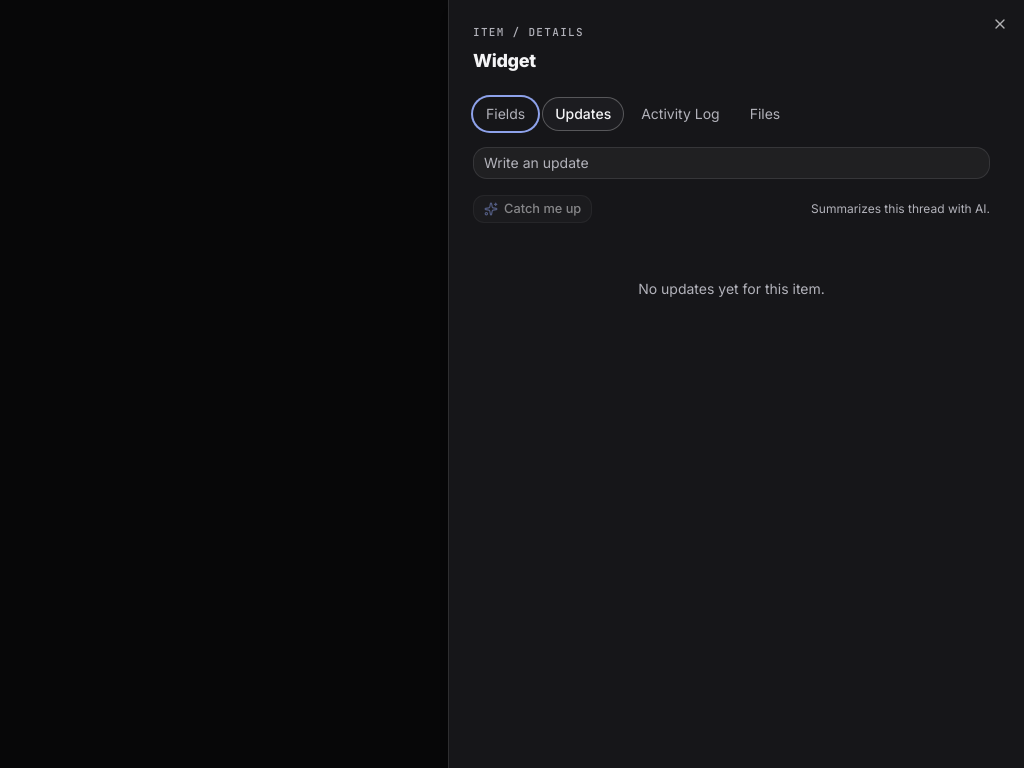
Test: ItemPanel tab strip (touch) › carries the coarse-pointer sizing token on each tab and switches tabs on click
Note: tab switch is client-side: clicking Files reveals the Files-tab content
Click the tab "files".
click(765, 114)  # box left=737, top=96, right=793, bottom=130
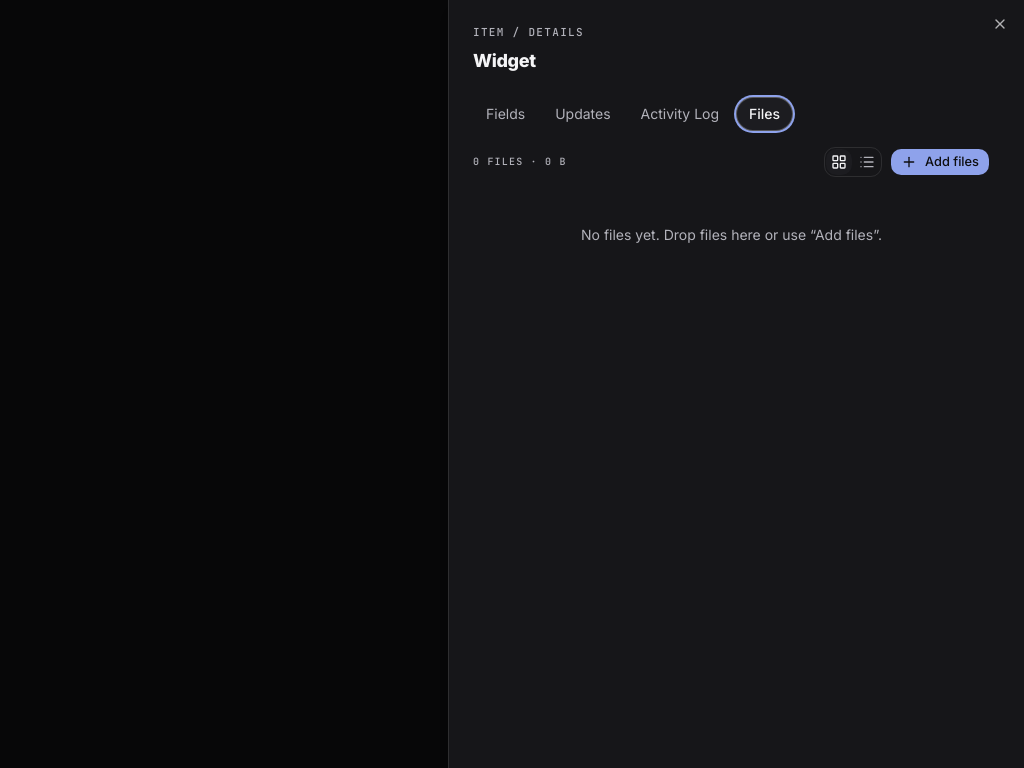
Result: the text "No files yet. Drop files here or use “Add files”." is shown at left=581, top=226, right=882, bottom=242
